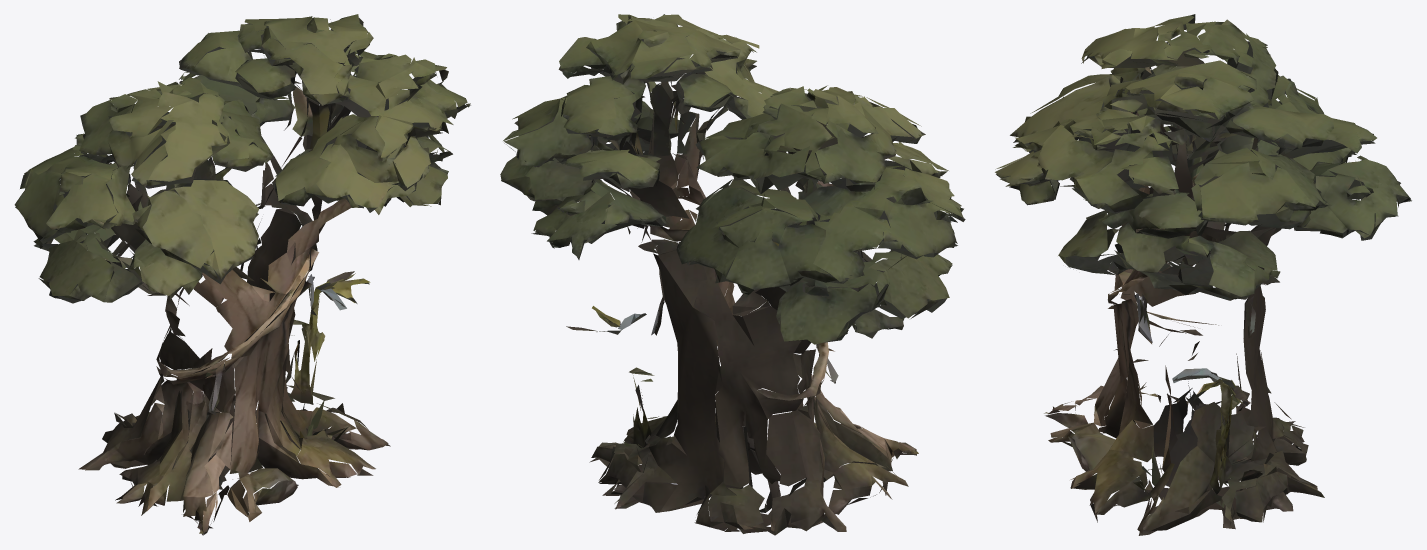
The model's file is bambooShrine.glb.
3 views of the same model, side by side, from view 1: azimuth 30°, elevation 25°; view 2: azimuth 150°, elevation 25°; view 3: azimuth 270°, elevation 25° (orthographic). The views are drawn at different scales.
Visible parts, largest first — view 1: Prop_bambooShrine; view 2: Prop_bambooShrine; view 3: Prop_bambooShrine.
Boxes of the visible parts, box(x1,y1,x2,y2) form: Prop_bambooShrine: box(14, 14, 470, 535); Prop_bambooShrine: box(500, 14, 965, 535); Prop_bambooShrine: box(995, 14, 1411, 535).
Bounding box in the file's own units: 6.12 × 6.01 × 5.09.
Materials: 1 (1 with a texture image).
